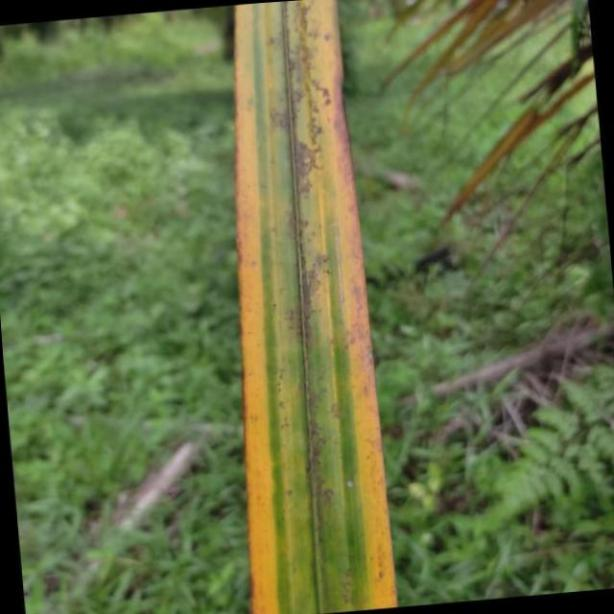Megnesium: (229, 6, 395, 614)
